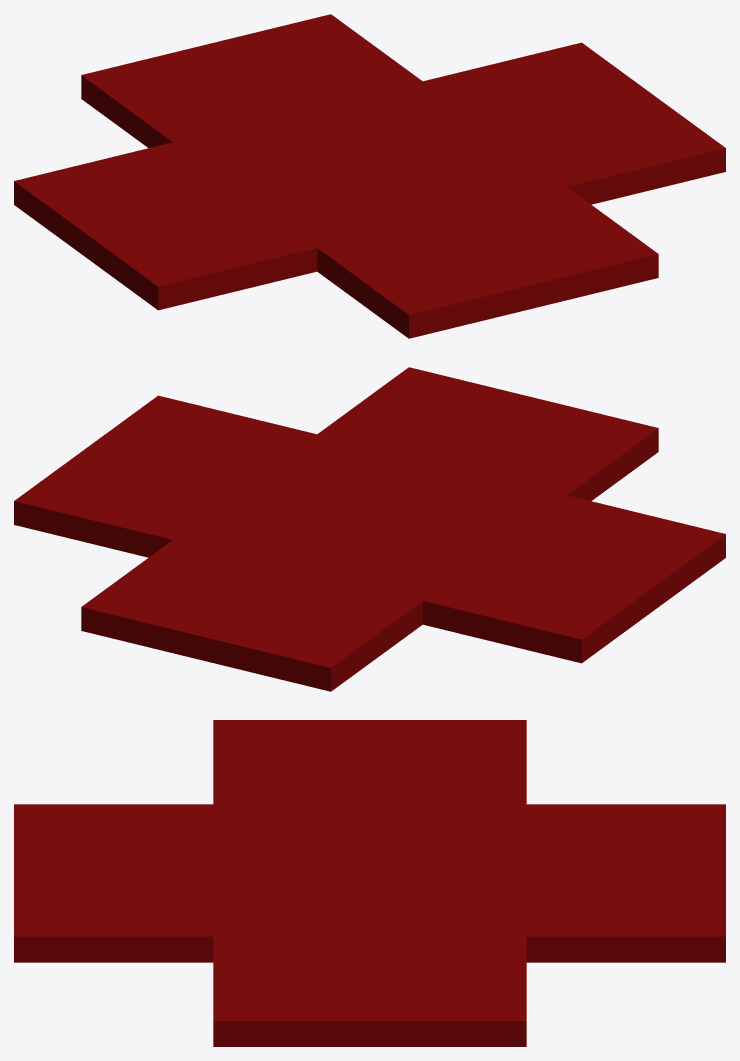
Rendered from StraßeKreuzung_kein_platz.obj.
3 renders of one model, top to bottom at view 1: azimuth 30°, elevation 25°; view 2: azimuth 150°, elevation 25°; view 3: azimuth 270°, elevation 25°, orthographic. The views are drawn at different scales.
Bounding box in the file's own units: 2.5 × 0.1 × 2.5.
1 material, 1 textured.
